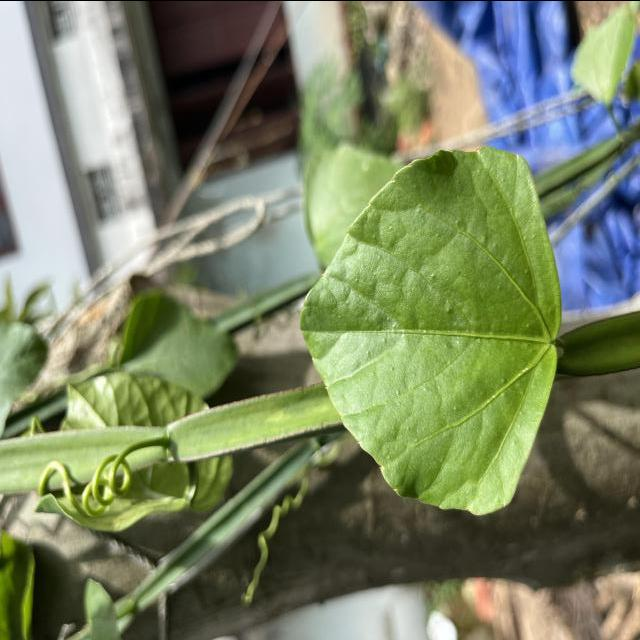Cissus quadrangularis: (295, 142, 564, 518)
